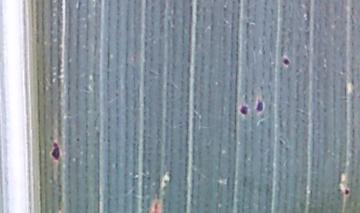tarspot: (49, 138, 63, 162), (255, 94, 266, 113), (237, 101, 249, 117), (279, 54, 291, 66), (342, 184, 351, 198), (73, 135, 80, 143)
